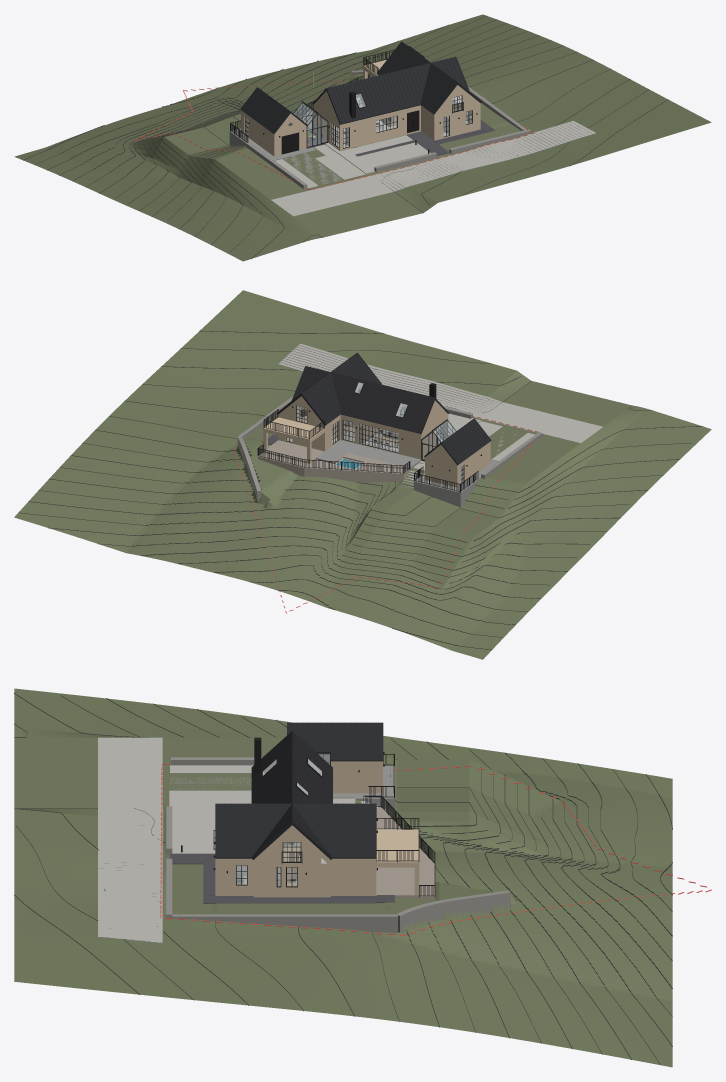
File: house.glb
3 renders of one model, top to bottom at view 1: azimuth 30°, elevation 25°; view 2: azimuth 150°, elevation 25°; view 3: azimuth 270°, elevation 25°, orthographic. The views are drawn at different scales.
Parts seen in each view (by area): view 1: Mark, Grus, Tak, Höjdkurvor, Väggar, Gabionmurar, Bandtäckning falsar, Garage väggar, Garage tak, Skiffer, Fönsterkarmar, Glas (+5 smaller); view 2: Mark, Höjdkurvor, Grus, Tak, Väggar, Trall nedre (ett steg ner), Garage väggar, Bandtäckning falsar, Gabionmurar, Glas, Garage tak, Betong (+5 smaller); view 3: Mark, Grus, Tak, Höjdkurvor, Väggar, Gabionmurar, Bandtäckning falsar, Garage tak, Skiffer, Balkong bjälklag, Garage väggar, Trall under balkong (+5 smaller).
Part boxes in pixels (x1,y1,x2,y2): Mark: [14, 14, 711, 261]; Grus: [271, 120, 595, 216]; Tak: [312, 41, 481, 124]; Höjdkurvor: [23, 16, 668, 258]; Väggar: [313, 74, 480, 150]; Gabionmurar: [246, 70, 530, 188]; Bandtäckning falsar: [328, 42, 480, 123]; Garage väggar: [241, 110, 306, 156]; Garage tak: [240, 87, 307, 134]; Skiffer: [355, 112, 494, 156]; Fönsterkarmar: [331, 95, 472, 148]; Glas: [332, 96, 471, 147]; Mark: [14, 290, 711, 659]; Höjdkurvor: [18, 330, 703, 649]; Grus: [278, 343, 602, 470]; Tak: [277, 352, 448, 433]; Väggar: [278, 384, 448, 459]; Trall nedre (ett steg ner): [258, 452, 409, 482]; Garage väggar: [425, 441, 490, 487]; Bandtäckning falsar: [279, 353, 433, 432]; Gabionmurar: [237, 396, 542, 501]; Glas: [286, 406, 404, 452]; Garage tak: [424, 418, 491, 465]; Betong: [316, 440, 421, 470]; Mark: [14, 688, 672, 1067]; Grus: [98, 737, 355, 943]; Tak: [215, 731, 376, 859]; Höjdkurvor: [14, 693, 672, 1065]; Väggar: [215, 825, 376, 897]; Gabionmurar: [166, 757, 510, 933]; Bandtäckning falsar: [218, 732, 373, 857]; Garage tak: [287, 722, 383, 761]; Skiffer: [170, 853, 394, 903]; Balkong bjälklag: [376, 829, 419, 895]; Garage väggar: [329, 761, 382, 793]; Trall under balkong: [376, 867, 419, 898].
Size of the model in its own units: 65.03 by 16.21 by 58.31.
